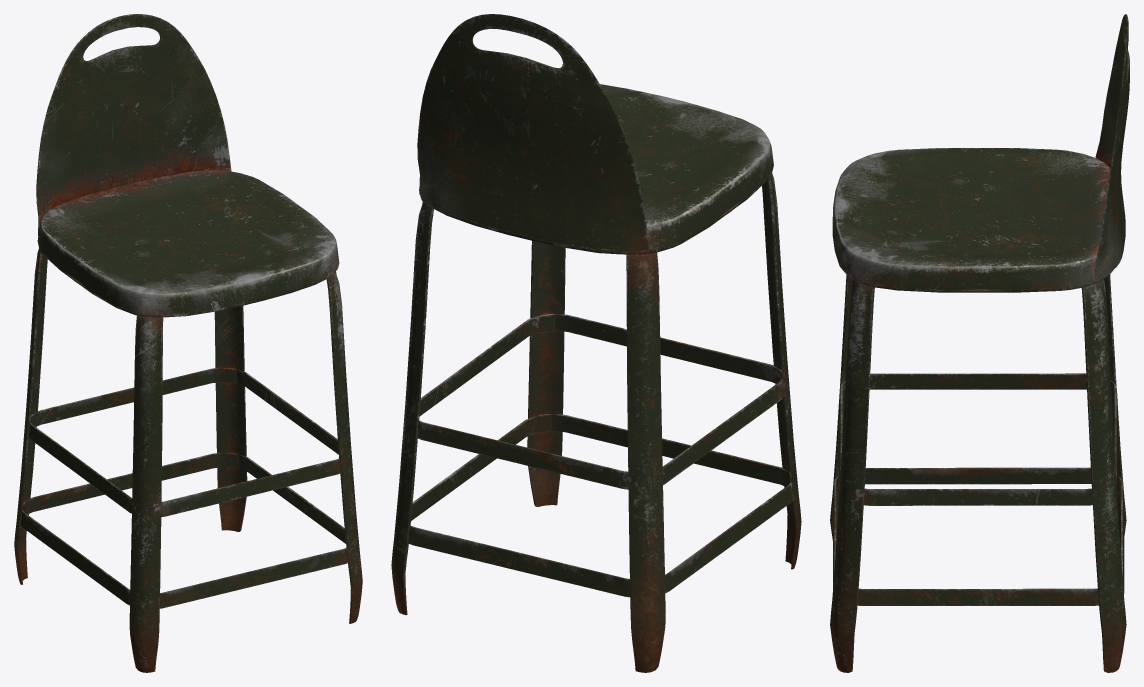
File: metal_stool_03.gltf
3 renders of one model, left to right at view 1: azimuth 30°, elevation 25°; view 2: azimuth 150°, elevation 25°; view 3: azimuth 270°, elevation 25°, orthographic. The views are drawn at different scales.
Parts seen in each view (by area): view 1: metal_stool_03; view 2: metal_stool_03; view 3: metal_stool_03.
Boxes of the visible parts, x1,y1,x2,y2 form: metal_stool_03: (14, 14, 362, 672); metal_stool_03: (391, 14, 801, 672); metal_stool_03: (830, 14, 1129, 672).
Bounding box in the file's own units: 0.4606 × 1.02 × 0.4706.
Materials: 1 (1 with a texture image).
